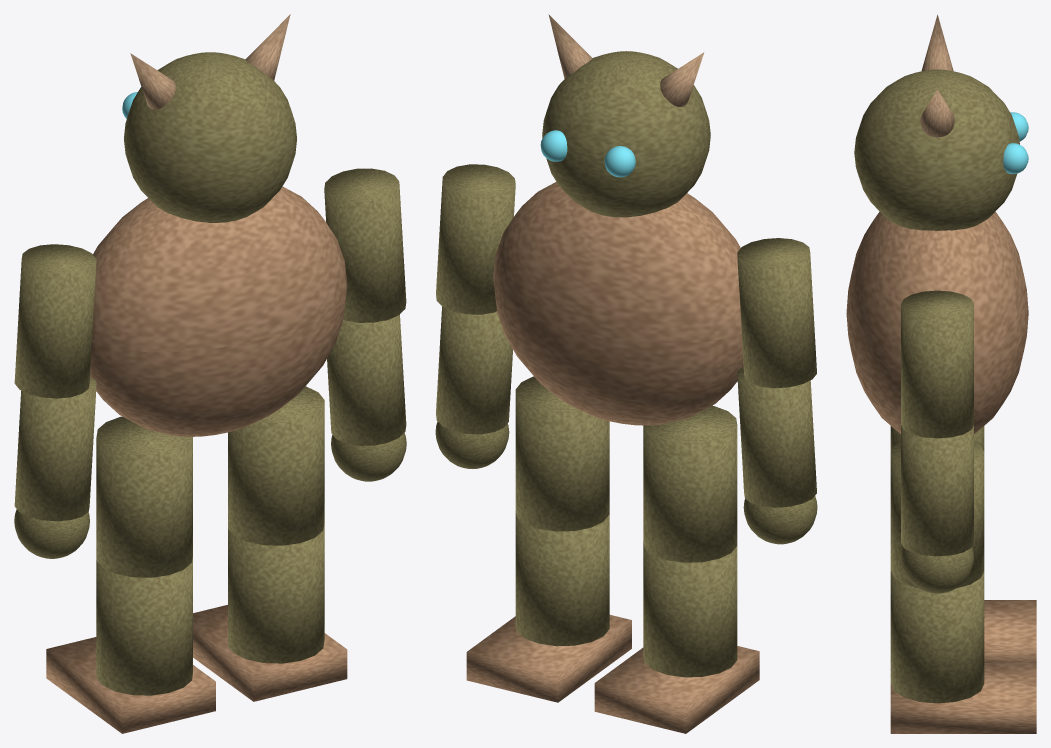
File: succubus.glb
3 renders of one model, left to right at view 1: azimuth 30°, elevation 25°; view 2: azimuth 150°, elevation 25°; view 3: azimuth 270°, elevation 25°, orthographic. The views are drawn at different scales.
Visible parts, largest first — view 1: Torso, Head, ThighL, ThighR, ShinR, ShinL, UpperArmL, UpperArmR, ForearmL, ForearmR, FootL, FootR (+4 smaller); view 2: Torso, Head, ThighL, ThighR, ShinL, ShinR, UpperArmL, UpperArmR, ForearmL, ForearmR, FootR, FootL (+6 smaller); view 3: Torso, Head, ShinR, UpperArmR, ForearmR, FootR, FootL, ThighR, HandR, Horn.001, Horn, Eye.001 (+1 smaller).
Boxes of the visible parts, x1,y1,x2,y2 form: Torso: [90, 186, 347, 436]; Head: [124, 52, 296, 222]; ThighL: [96, 416, 192, 577]; ThighR: [228, 386, 324, 545]; ShinR: [228, 523, 324, 663]; ShinL: [96, 557, 192, 695]; UpperArmL: [14, 244, 96, 398]; UpperArmR: [324, 168, 406, 322]; ForearmL: [14, 377, 96, 521]; ForearmR: [327, 314, 406, 445]; FootL: [46, 637, 215, 733]; FootR: [193, 605, 347, 701]; Torso: [493, 182, 743, 425]; Head: [542, 51, 710, 217]; ThighL: [643, 405, 737, 562]; ThighR: [515, 376, 609, 531]; ShinL: [643, 541, 737, 677]; ShinR: [515, 511, 609, 646]; UpperArmL: [737, 238, 816, 388]; UpperArmR: [436, 164, 515, 314]; ForearmL: [737, 367, 816, 507]; ForearmR: [436, 306, 512, 434]; FootR: [466, 615, 631, 702]; FootL: [594, 646, 759, 733]; Torso: [846, 211, 1028, 433]; Head: [854, 69, 1019, 230]; ShinR: [890, 571, 984, 703]; UpperArmR: [901, 290, 973, 438]; ForearmR: [901, 425, 973, 556]; FootR: [890, 661, 1036, 733]; FootL: [984, 600, 1036, 661]; ThighR: [890, 441, 984, 588]; HandR: [901, 547, 973, 593]; Horn.001: [920, 89, 954, 137]; Horn: [921, 14, 953, 71]; Eye.001: [1003, 143, 1028, 174].
Size of the model in its own units: 0.5982 by 0.9793 by 0.2679.
4 materials, 3 textured.
